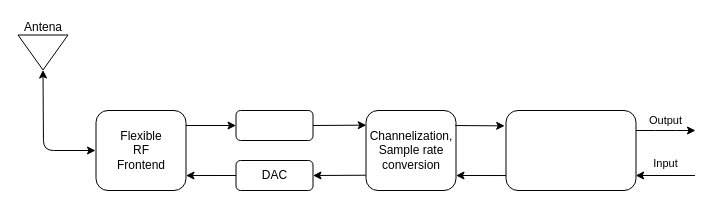
This 721x208 diagram has some shape labels left out. Here are the shapes that lost their labels. From the top down, the box of each, then its label:
(235, 110, 313, 140): ADC
(505, 110, 636, 190): Baseband Processing
